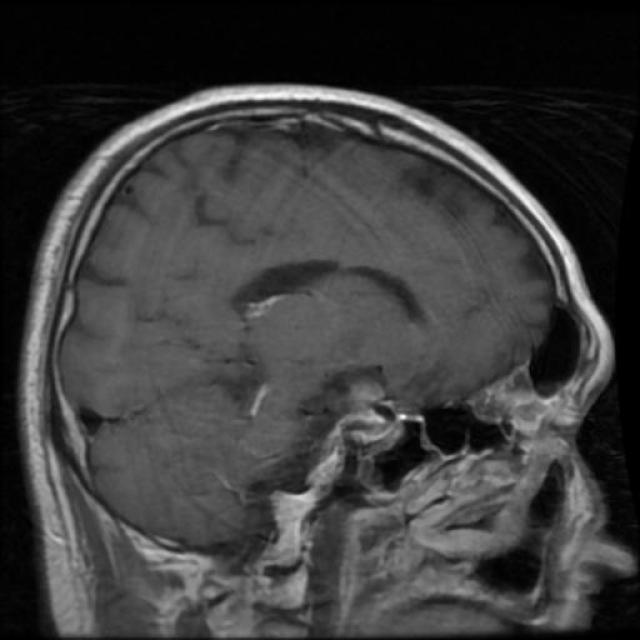pituitary: (318, 358, 421, 446)
